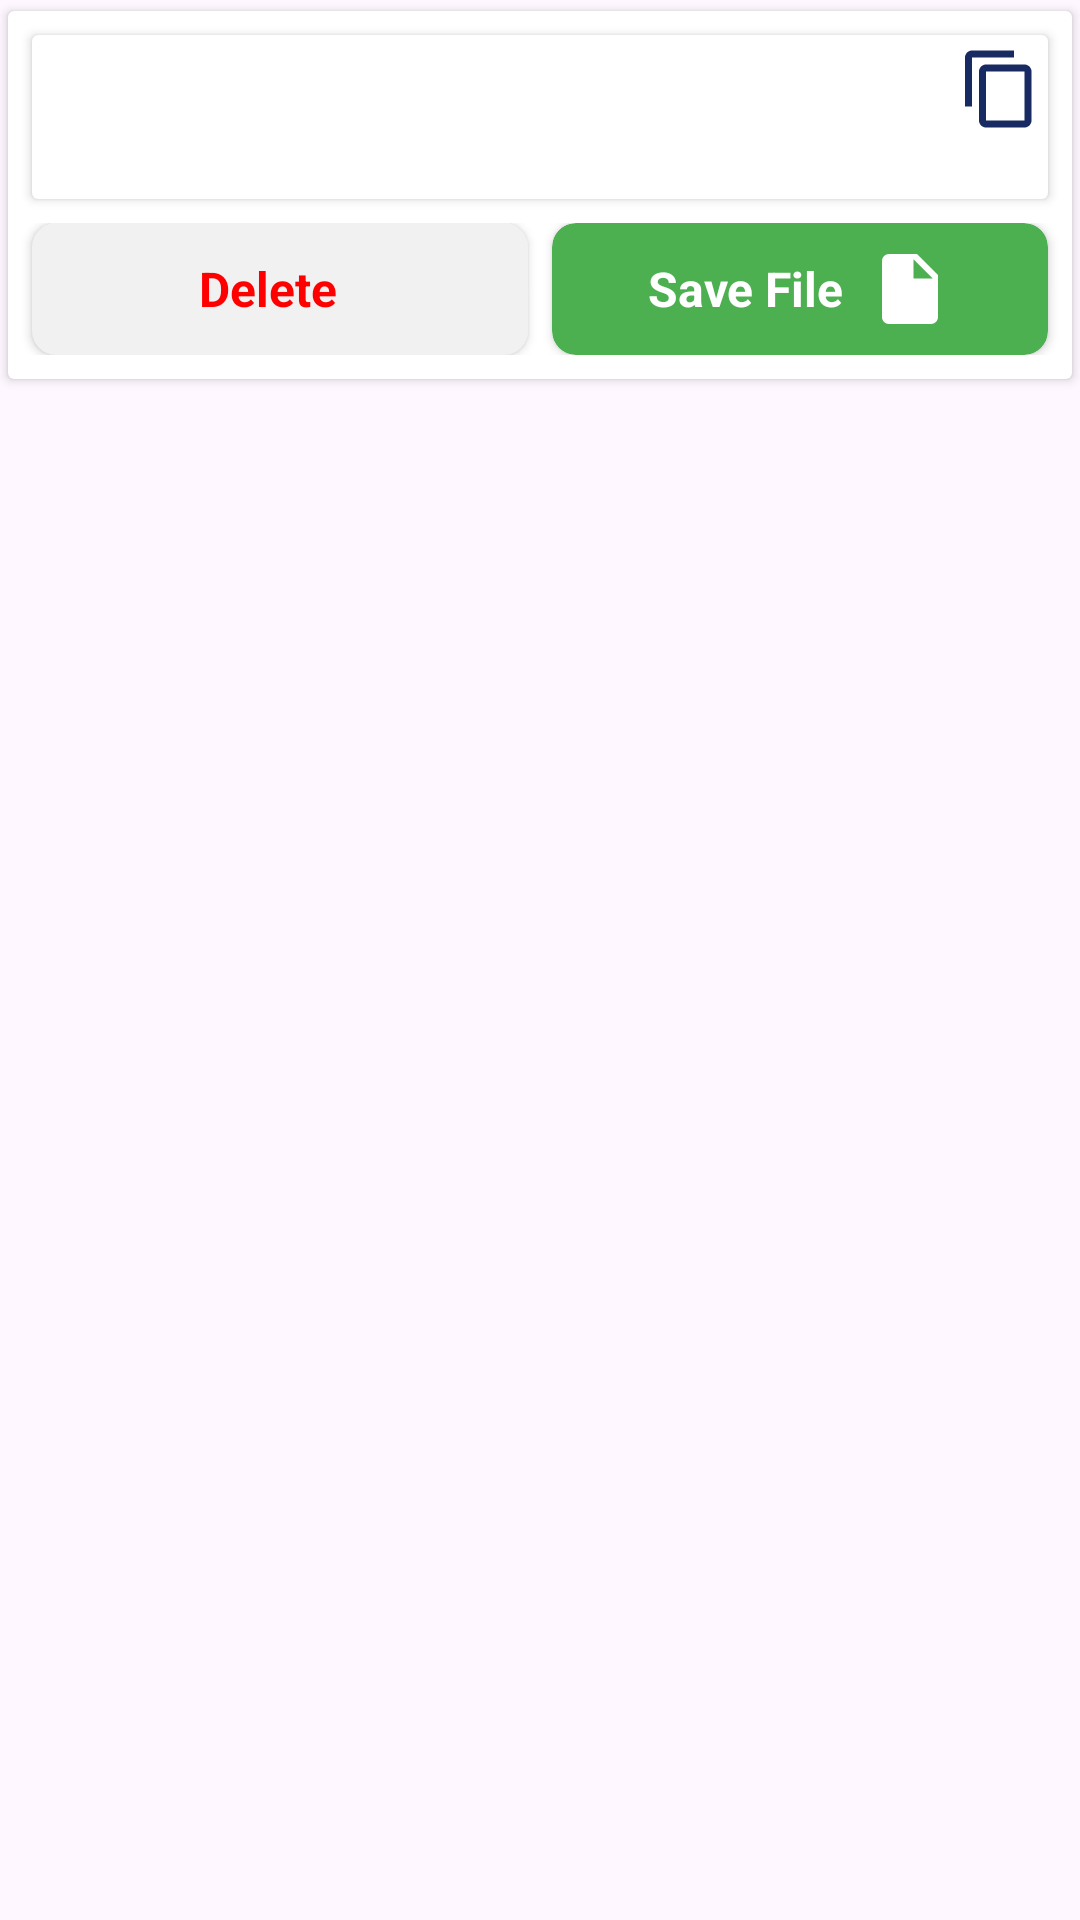

Icons on this 1080*1920 Android screen, each with the point to tap as (x=x, y=y):
insert drive file: (x=910, y=289)
